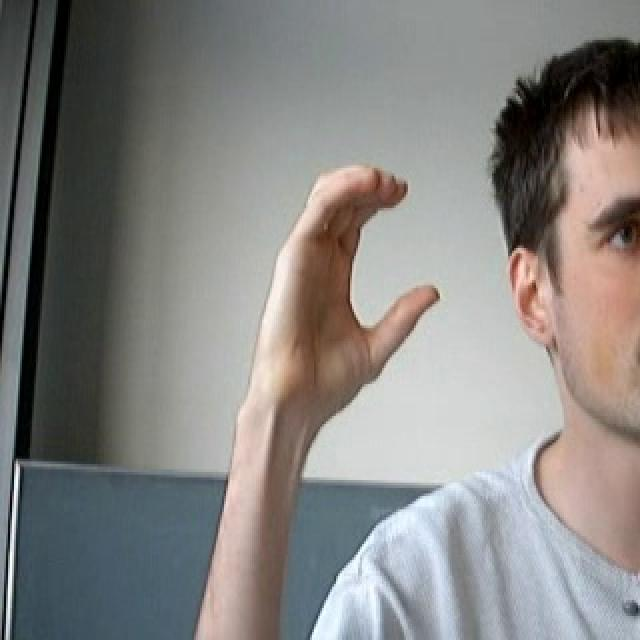C: (244, 149, 456, 424)
